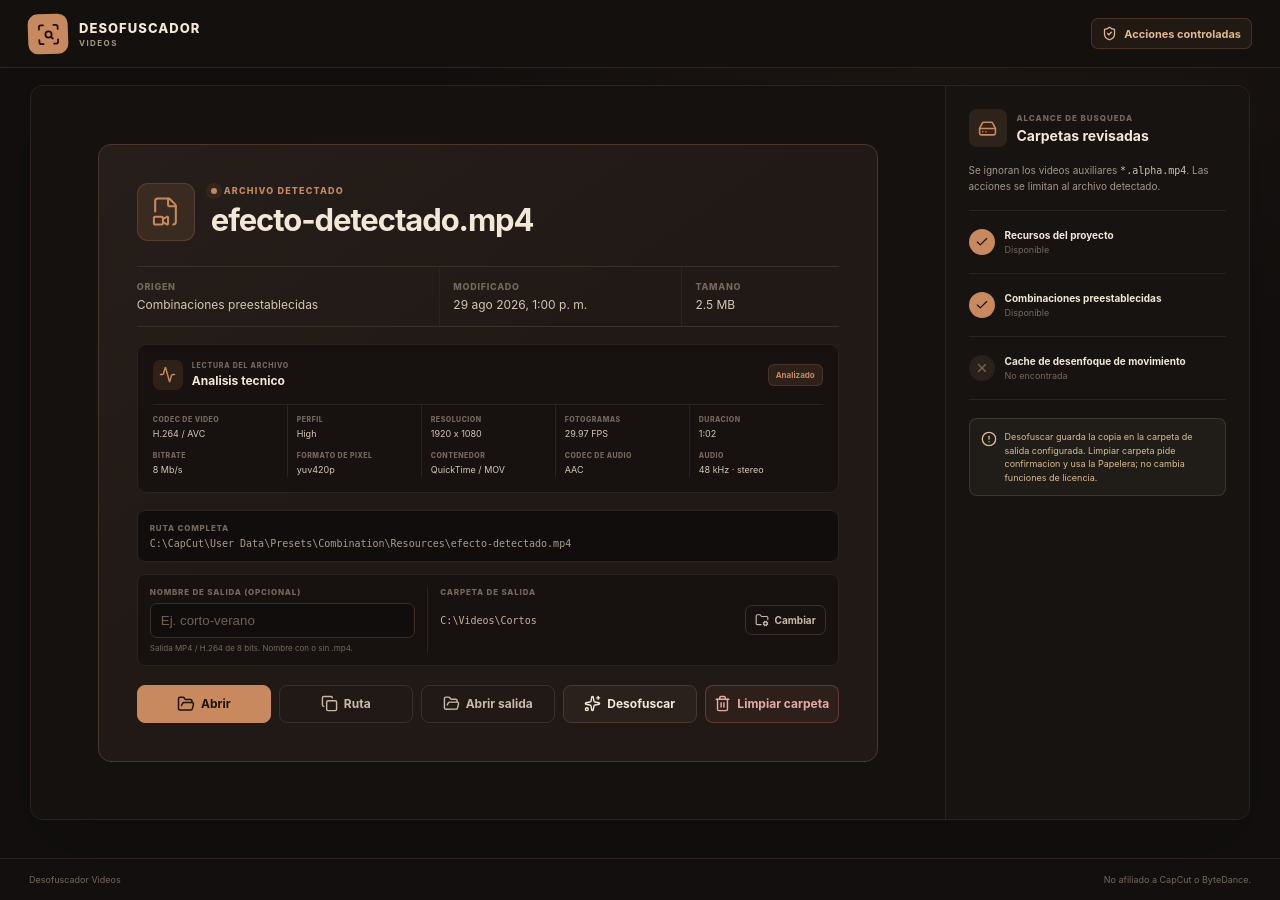
it: interfaz principal › abre la carpeta, copia la ruta y permite cerrar los avisos
The image size is (1280, 900).
(page scrolled)
Expected: the heading "efecto-detectado.mp4" is shown, x1=211 y1=203 x2=534 y2=238
Click the button "Abrir" at (204, 704), box x1=137 y1=685 x2=271 y2=723
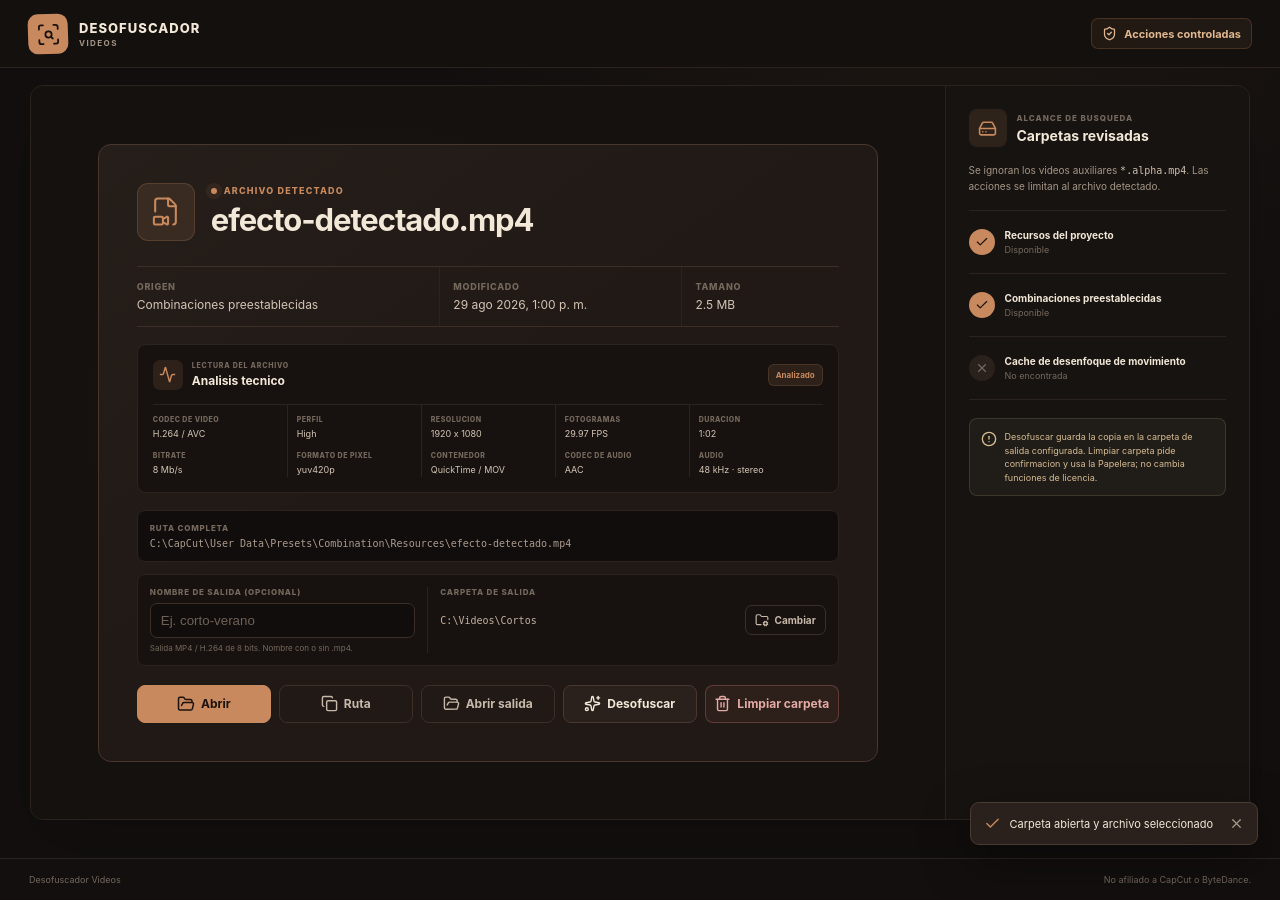
Result: the message shows "Carpeta abierta" at x1=1010 y1=816 x2=1213 y2=830
Click the button named "Cerrar aviso" at (1236, 824), box x1=1229 y1=816 x2=1244 y2=831
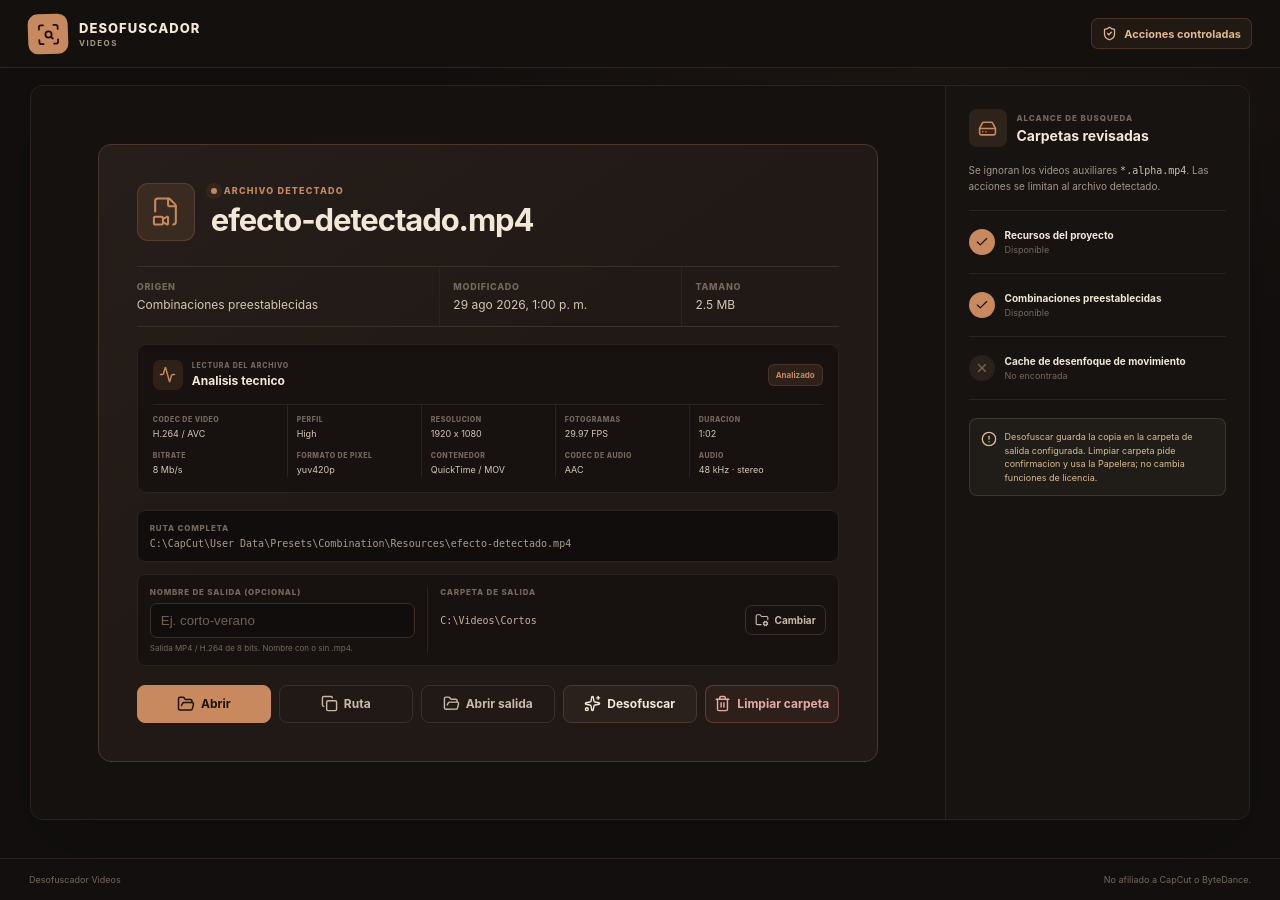
Click the button "Ruta" at (346, 704), box x1=279 y1=685 x2=413 y2=723
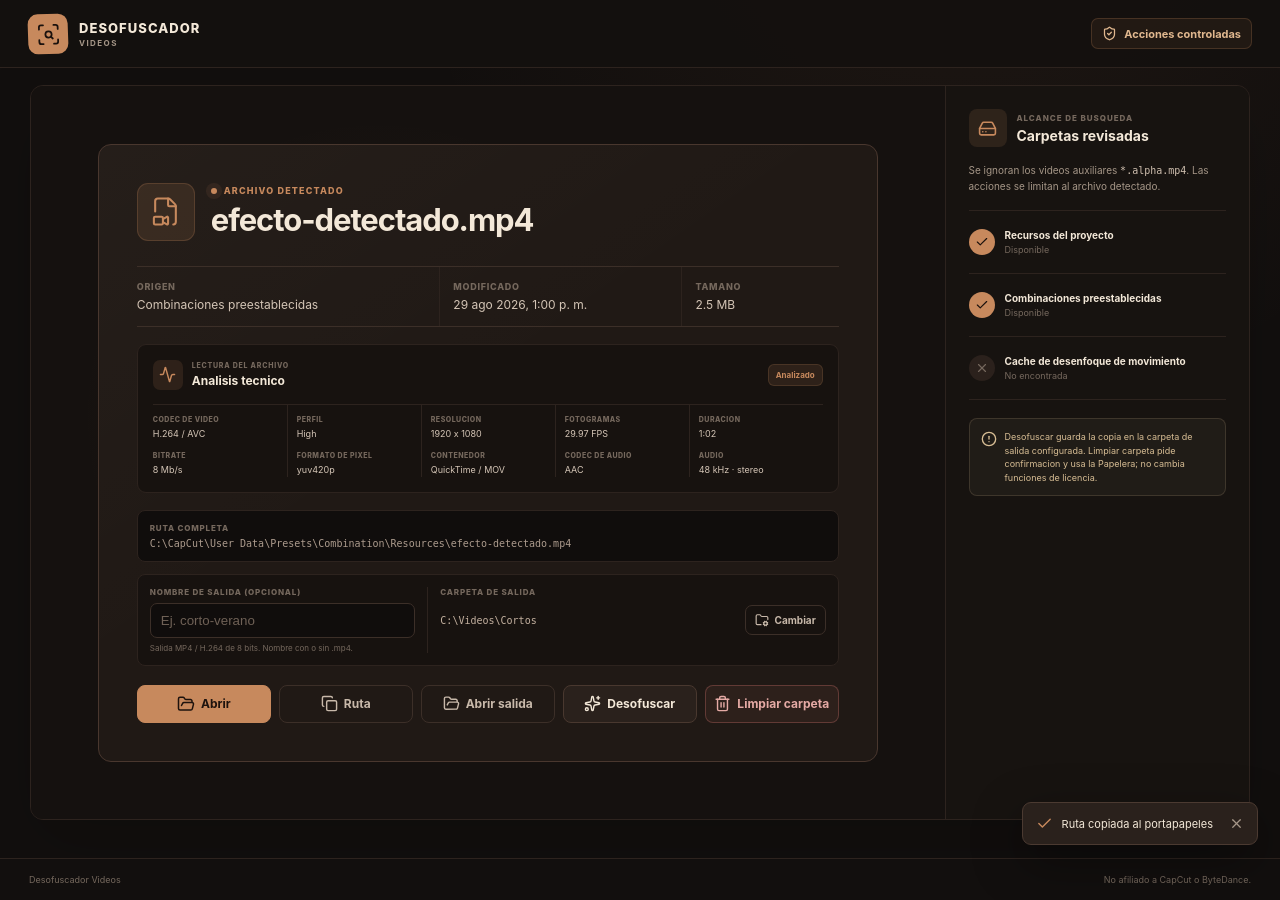
Result: the message shows "Ruta copiada" at x1=1062 y1=816 x2=1213 y2=830
